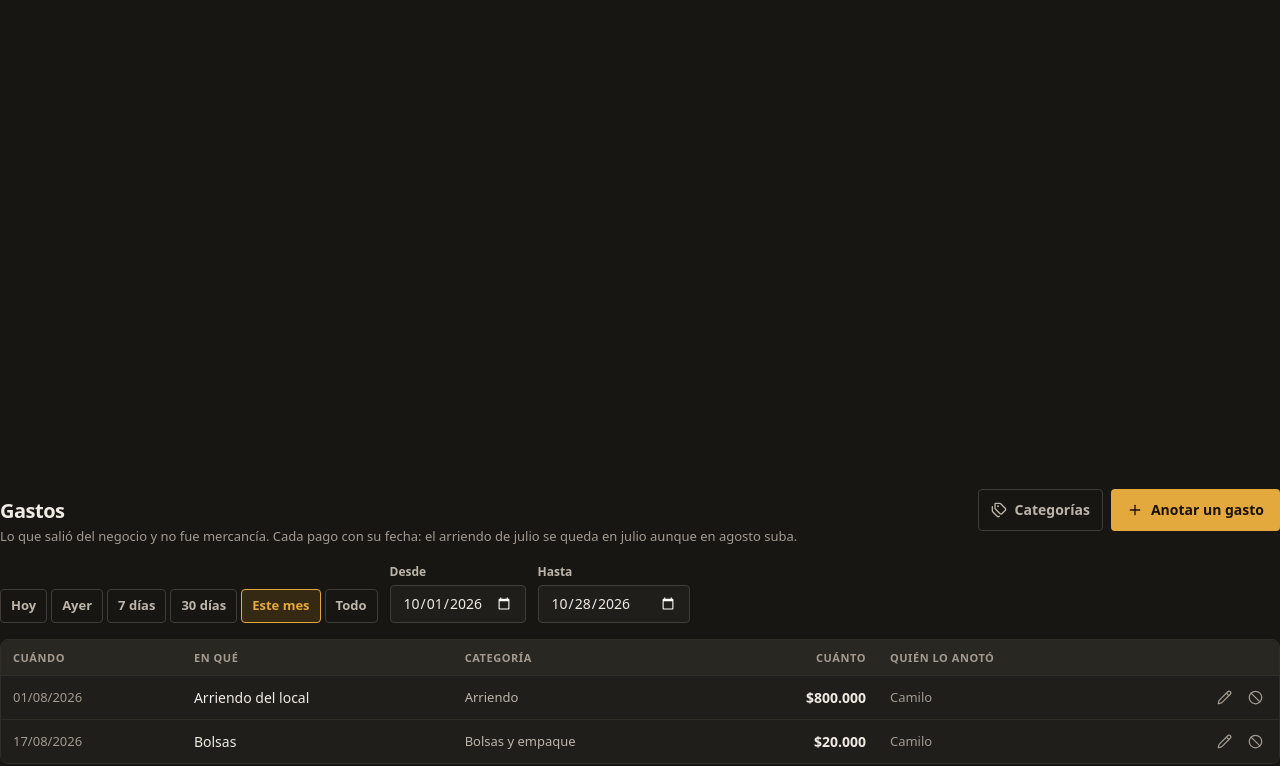
Scenario: anotar un gasto › no deja guardar sin concepto ni sin monto
The width and height of the screenshot is (1280, 766).
(page scrolled)
expect the heading "Gastos" is shown: met, box x1=0 y1=497 x2=64 y2=524
expect the text "Arriendo del local" is shown: met, box x1=194 y1=688 x2=309 y2=707
Click the button "Anotar un gasto" at [1195, 510], box x1=1111 y1=489 x2=1279 y2=531
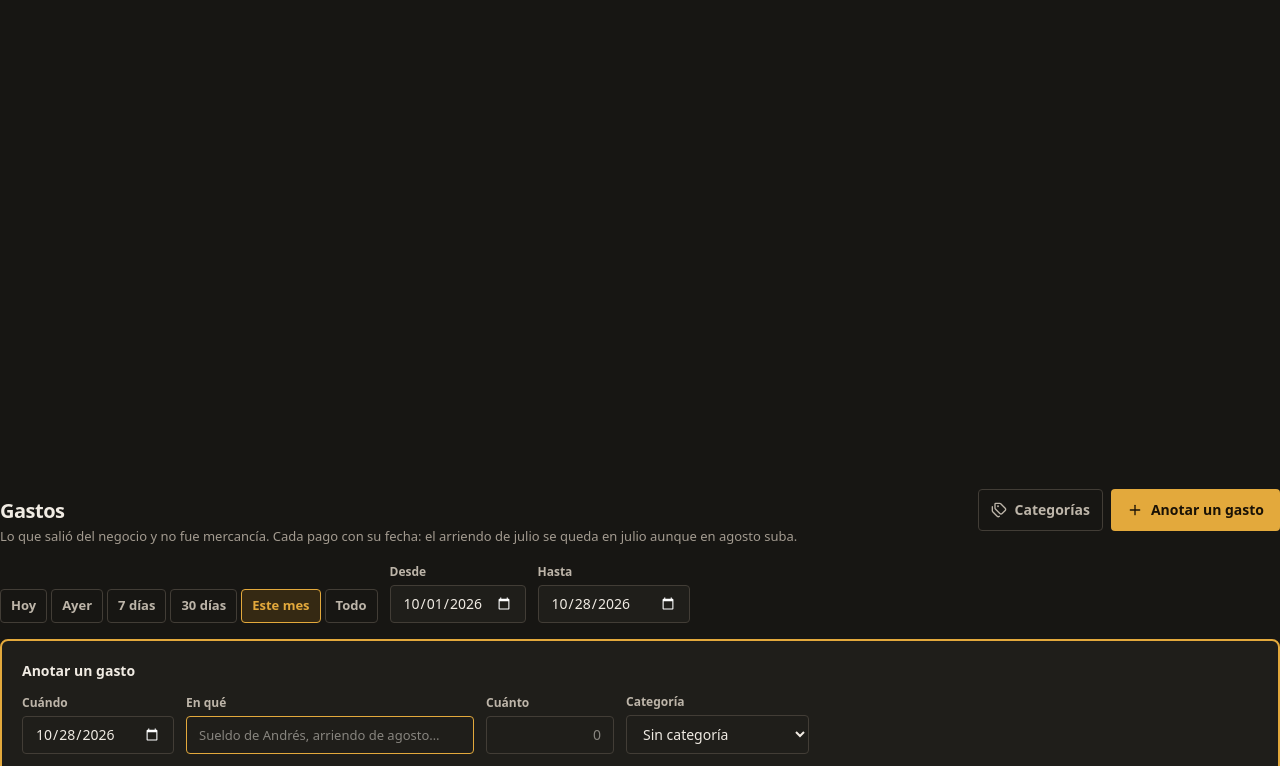
Type "Sueldo" into the field named "En qué se gastó" at [330, 734], box x1=186 y1=716 x2=474 y2=754
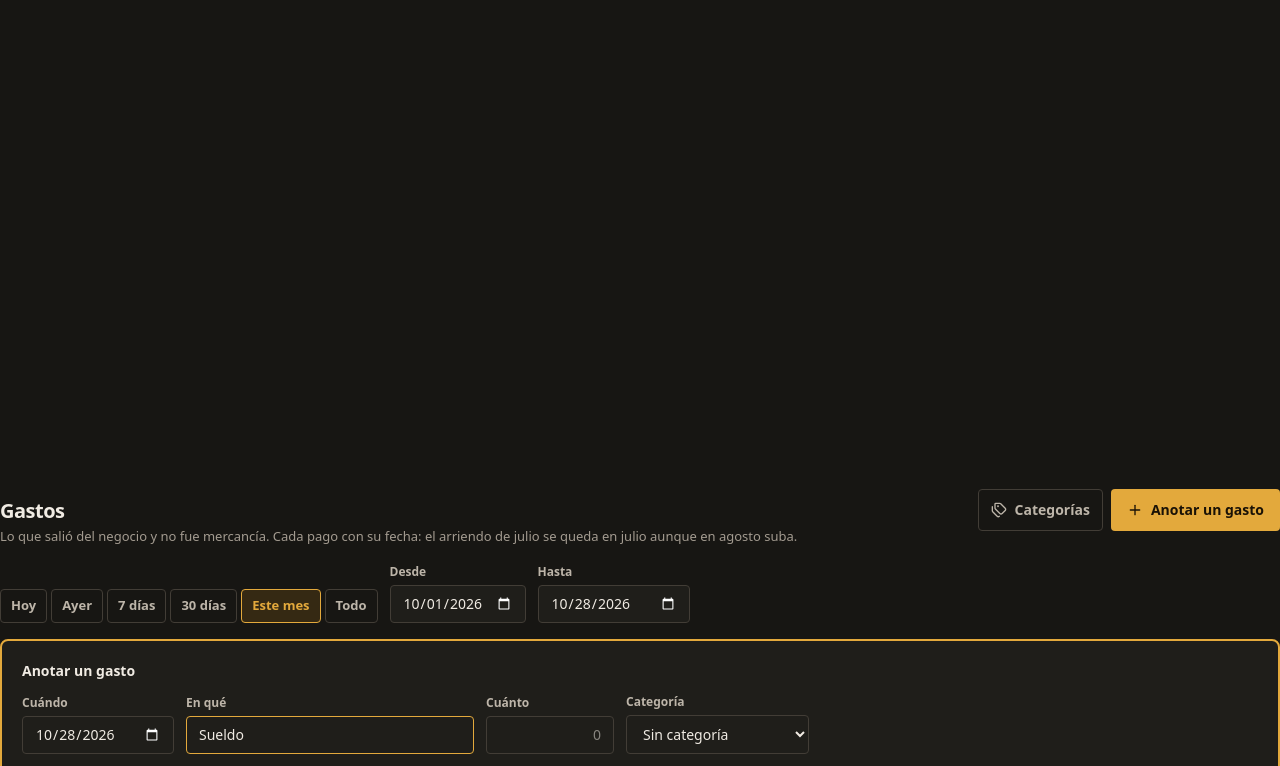
Type "1400000" into the field named "Cuánto se gastó" at [550, 734], box x1=486 y1=716 x2=614 y2=754
(page scrolled)
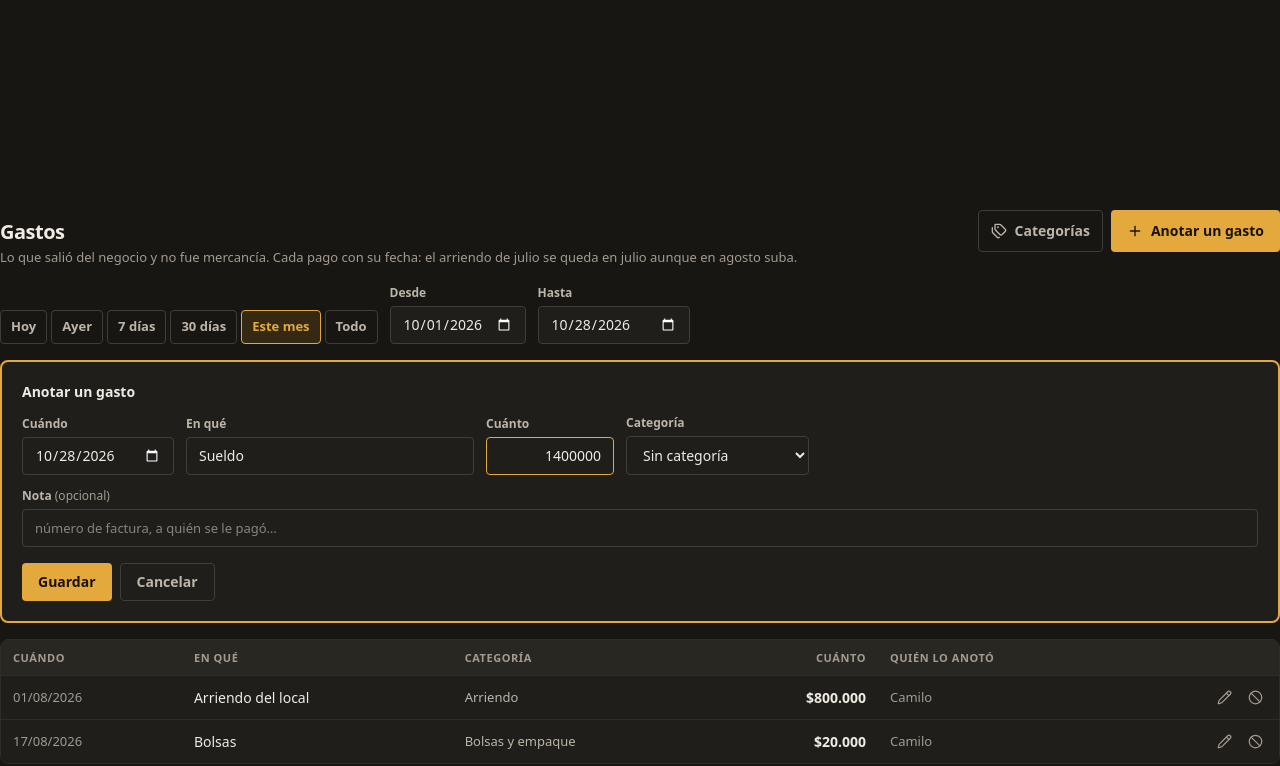
expect the button "Guardar" is enabled: met, box x1=22 y1=562 x2=112 y2=600
